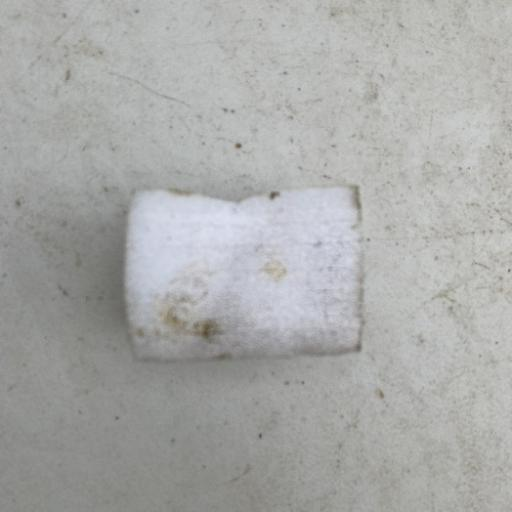Plastic: (120, 182, 365, 363)
